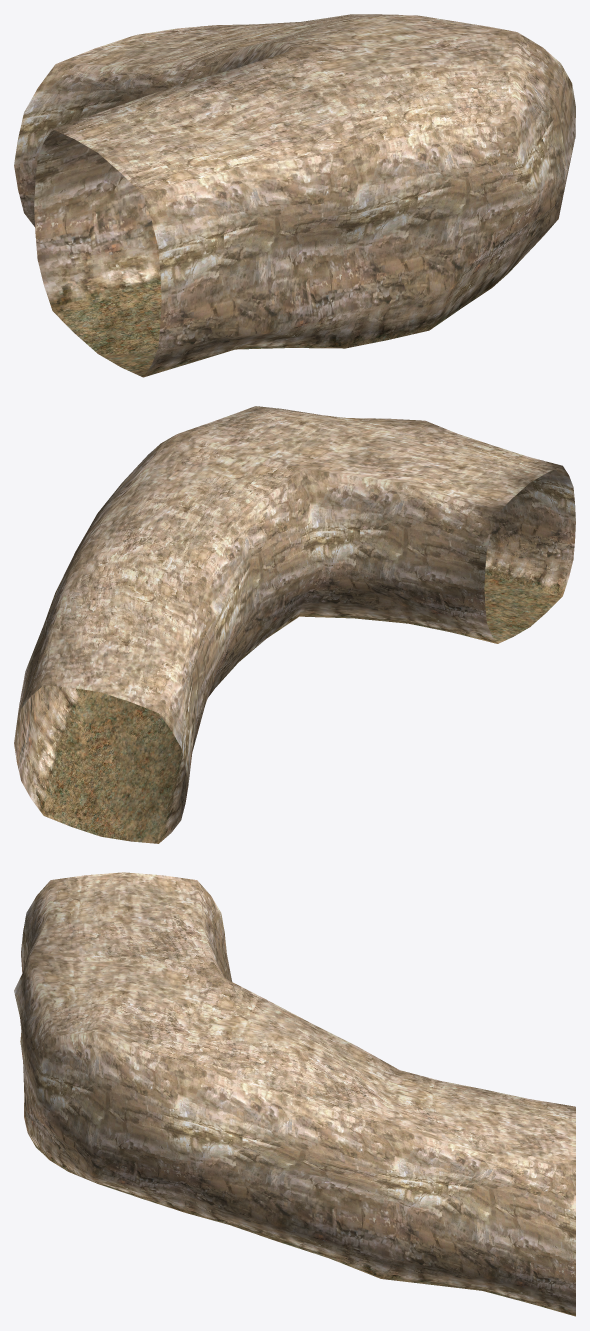
File: thm_all_cave_s03_mirror_r23_mesh_r23.fbx
3 renders of one model, top to bottom at view 1: azimuth 30°, elevation 25°; view 2: azimuth 150°, elevation 25°; view 3: azimuth 270°, elevation 25°, orthographic. The views are drawn at different scales.
Parts seen in each view (by area): view 1: mesh_node; view 2: mesh_node; view 3: mesh_node.
Boxes of the visible parts, <box> form: mesh_node: <box>14,14,575,377</box>; mesh_node: <box>14,406,575,843</box>; mesh_node: <box>14,872,575,1316</box>.
Bounding box in the file's own units: 21.23 × 14.67 × 24.86.
